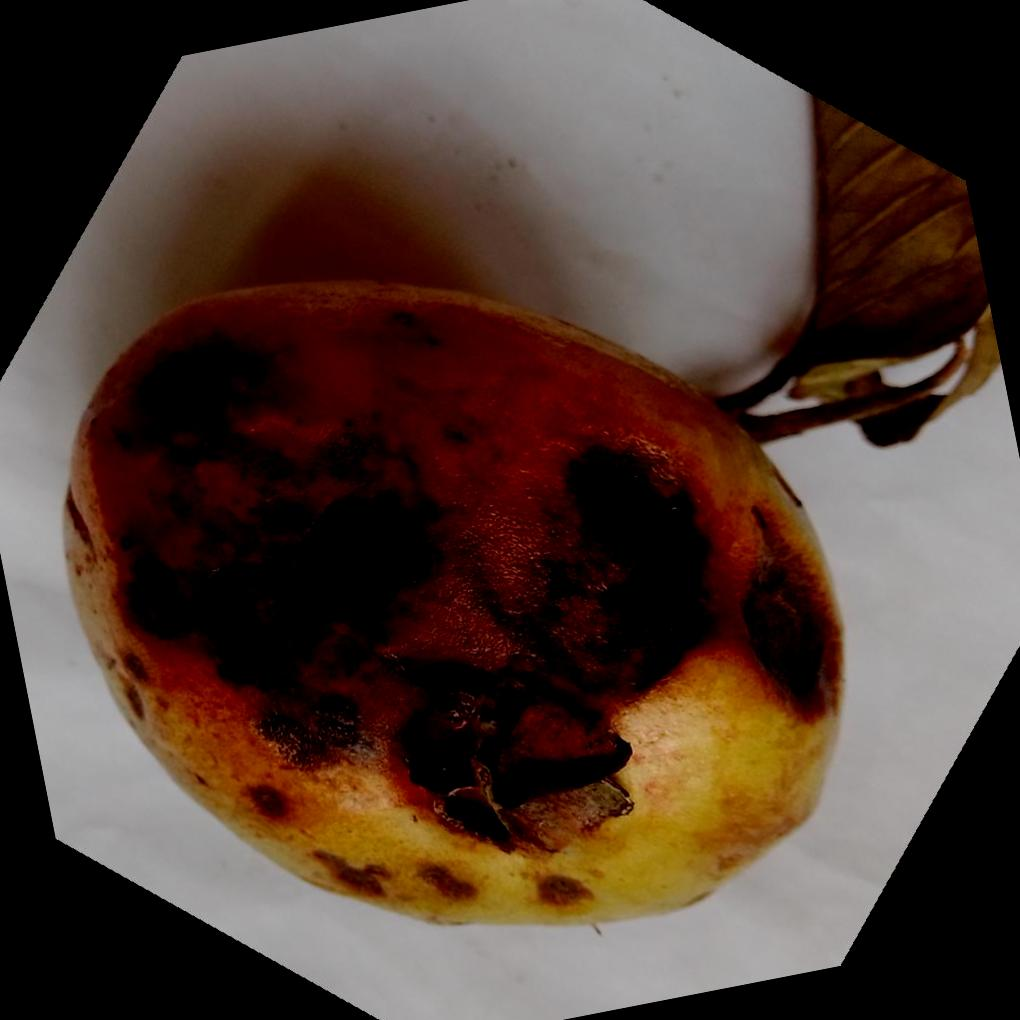FreshOrange: (60, 271, 845, 925)
